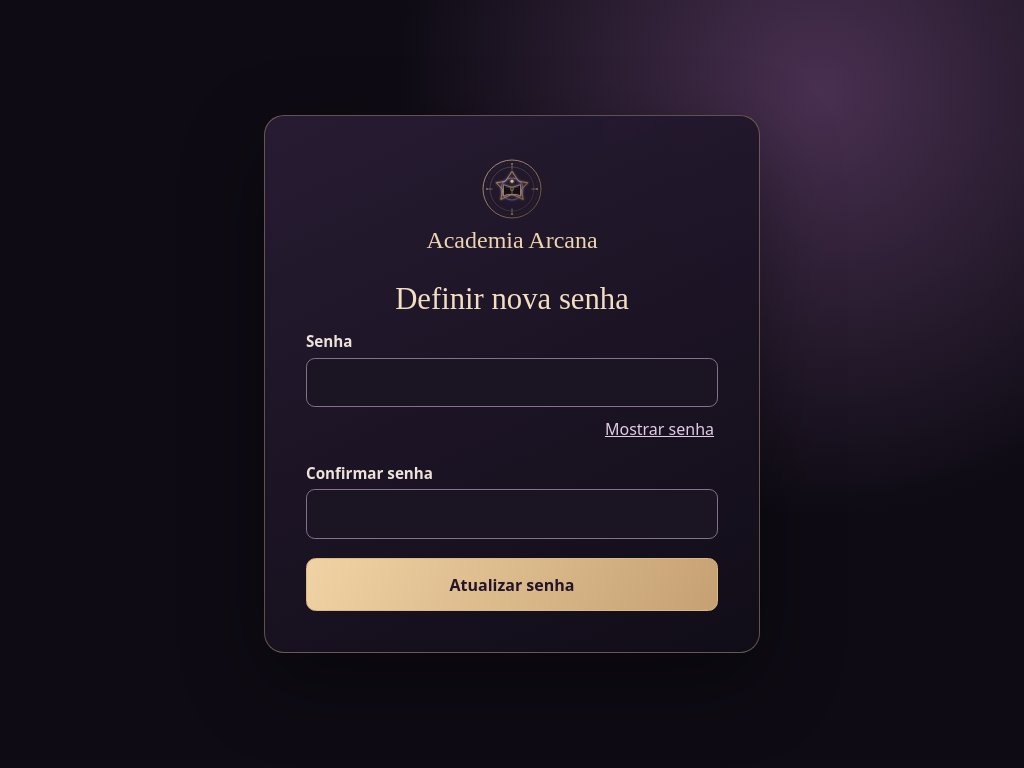
Test: AuthForm › rejects a password shorter than eight characters when updating
Type "1234567" into the password field labelled "Senha". click: (512, 383)
box: 306,358 -> 718,407
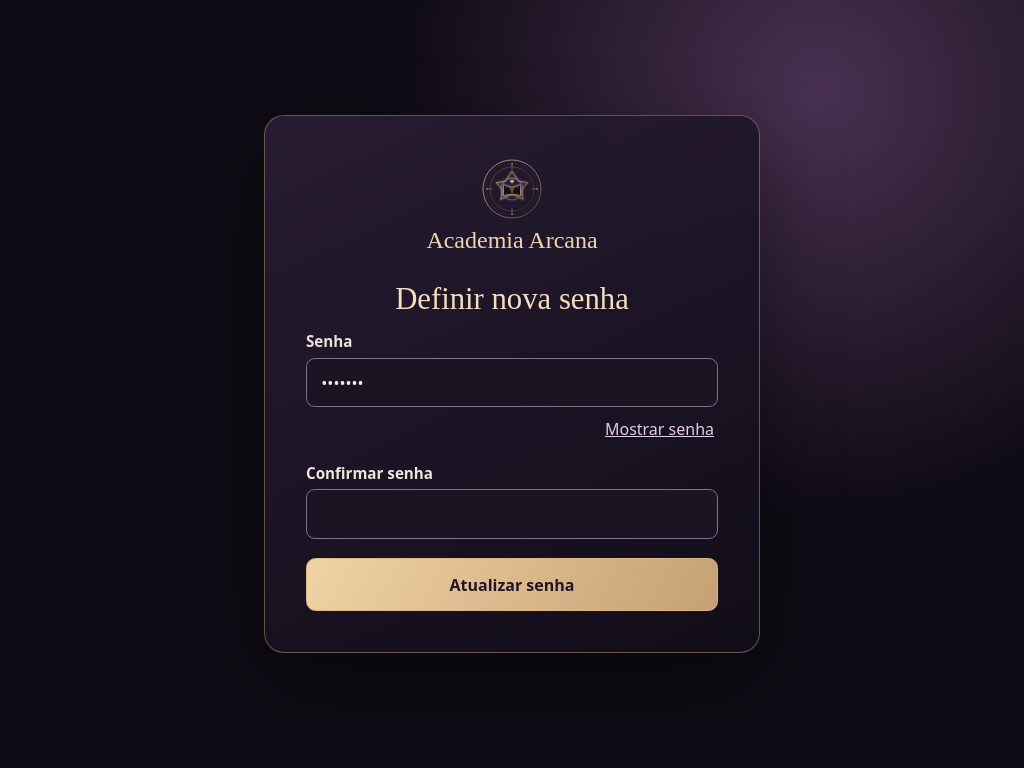
Type "1234567" into the password field labelled "Confirmar senha". click: (512, 514)
box: 306,489 -> 718,539
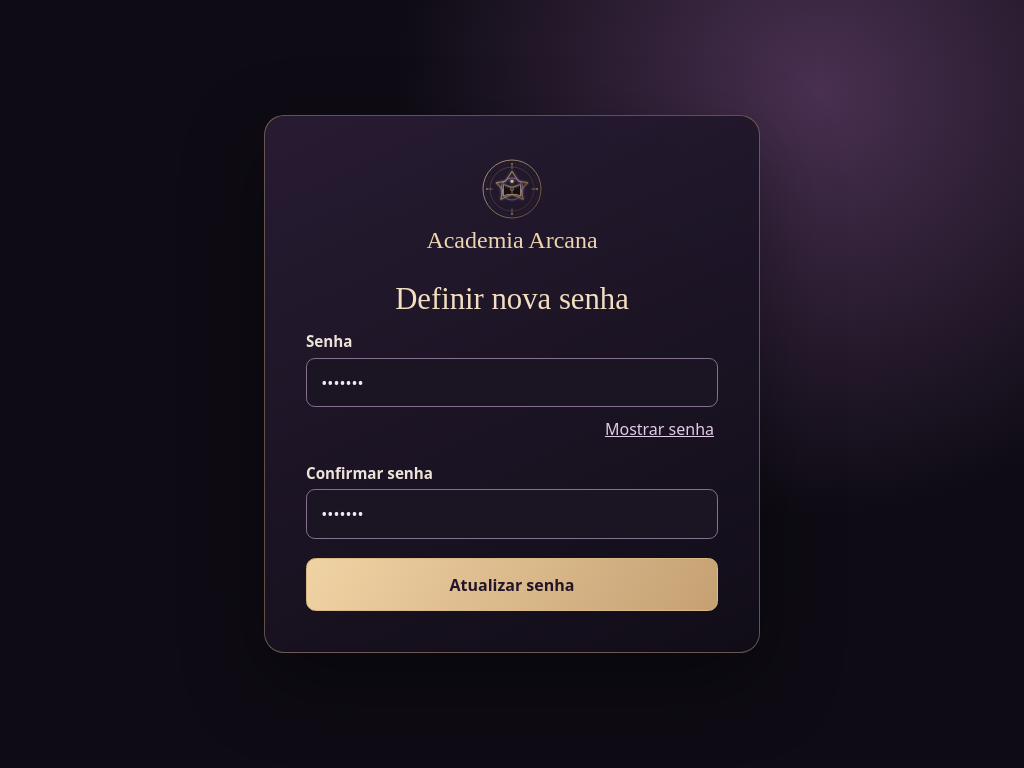
Click the button "Atualizar senha". click: (512, 584)
box: 306,558 -> 718,611
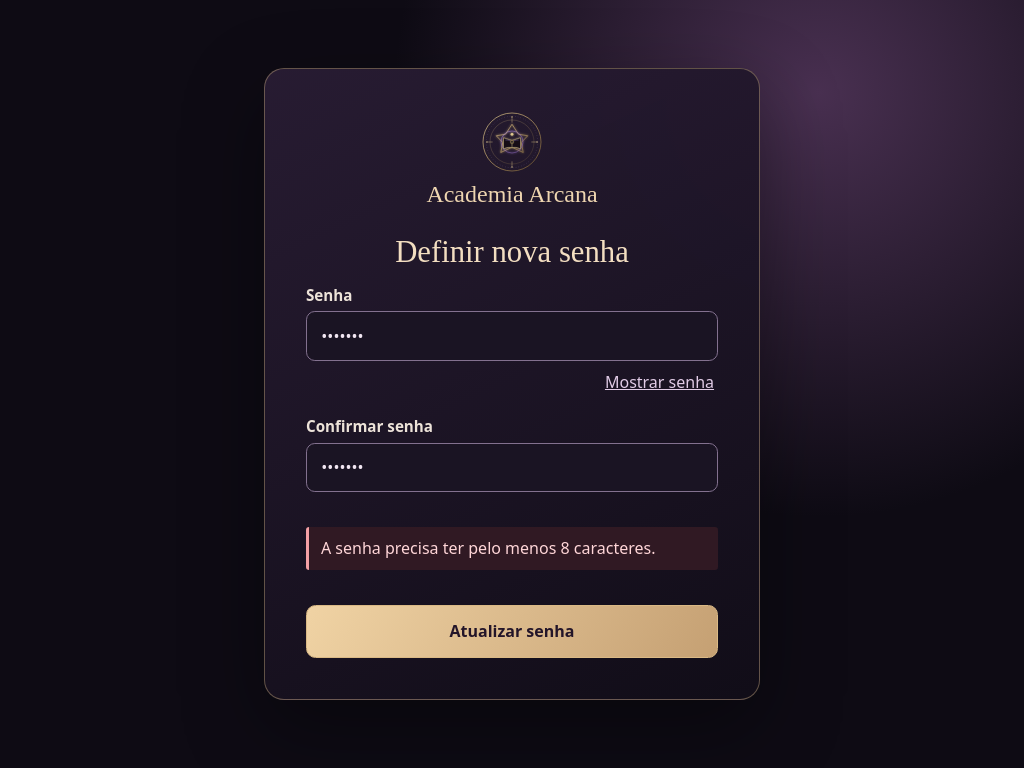
Expected: the message reads "A senha precisa ter pelo menos 8 caracteres.", 321,537 -> 656,559
